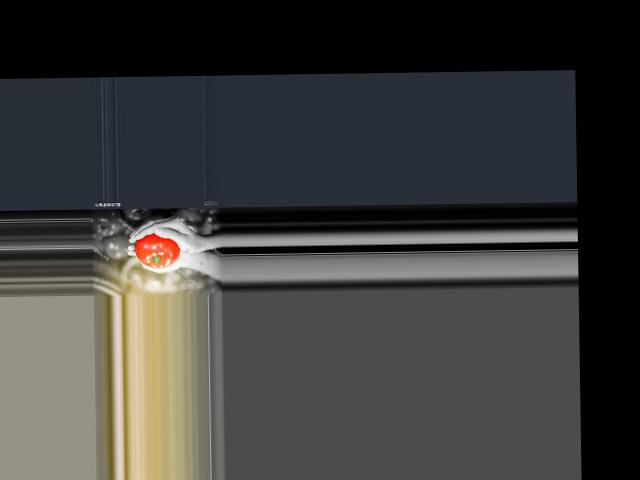tomato: (135, 233, 180, 268)
